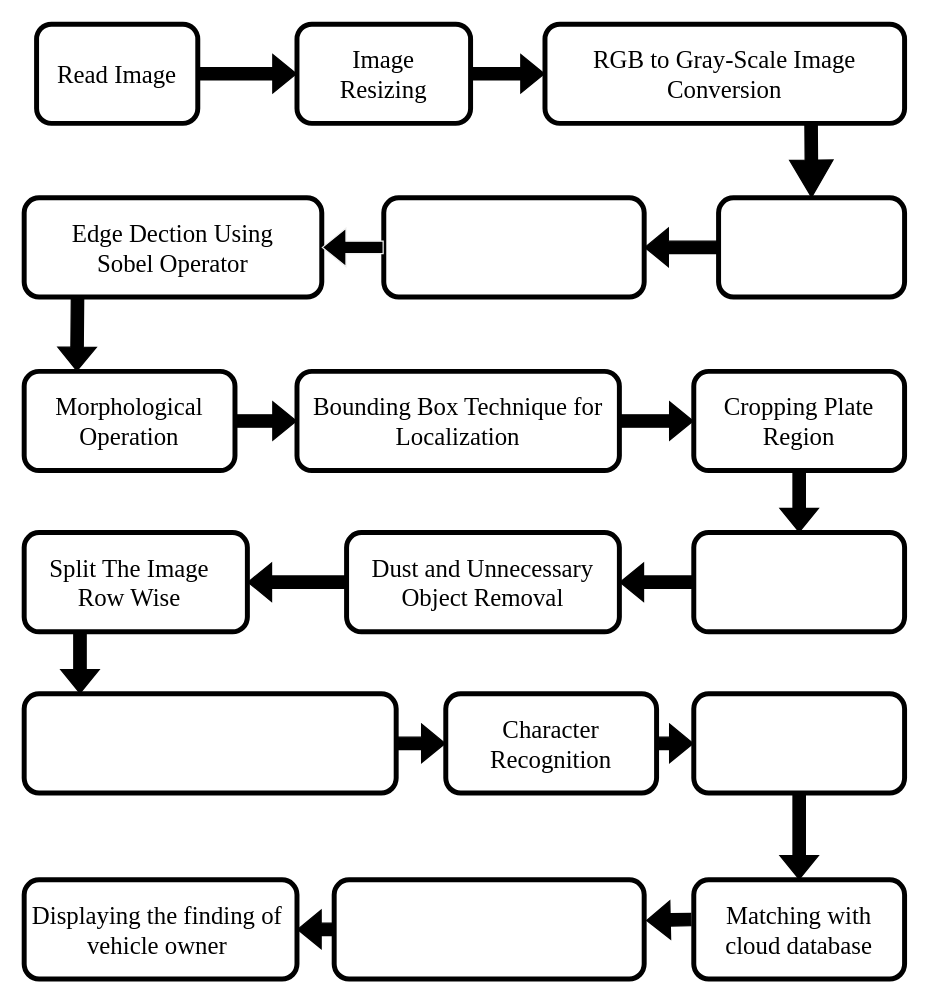
This 928x1002 diagram has some shape labels left out. The centre of each missing label's shape, as x and y in pixels:
"Authenticating Registration and tax-token status" goes at pixel 488 929.
"Binary Image Conversion" goes at pixel 798 581.
"Character Segmentation Using Connected Component Analysis" goes at pixel 209 743.
"Contrast Enhancement" goes at pixel 810 247.
"Noise Reduction & Tilt Correction" goes at pixel 513 247.
"Save the output in text file" goes at pixel 798 743.
